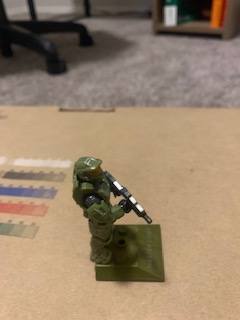soldier: (70, 152, 154, 267)
